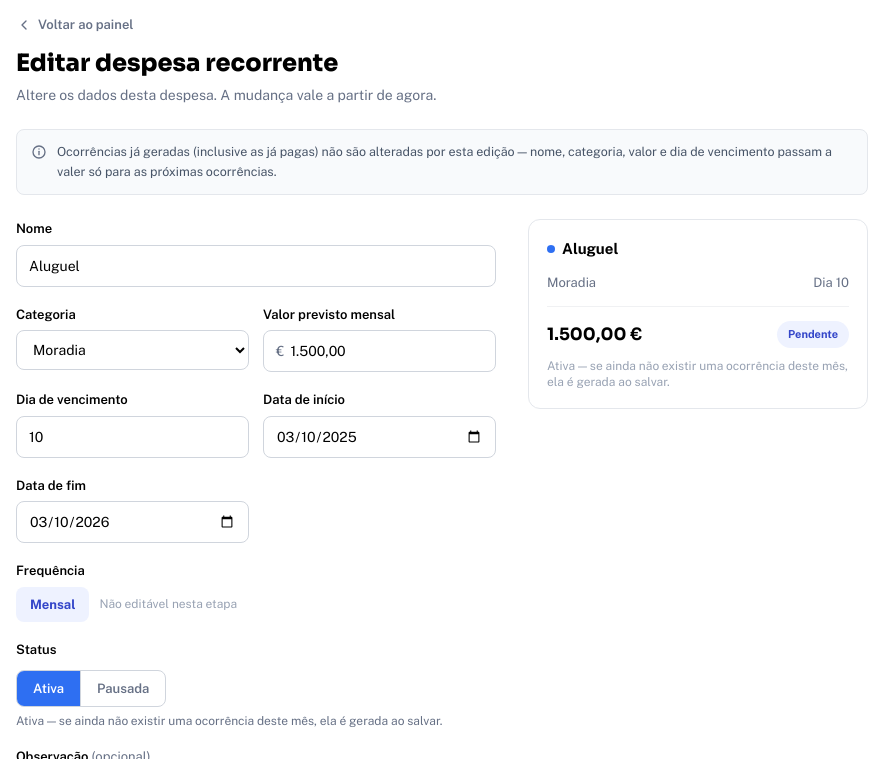
Test case: EditarDespesaRecorrenteComponent › editing and saving (FR-007-FR-012, FR-015, US1) › blocks submission and reveals every invalid field at once when the form is invalid
The image size is (885, 759).
Clear the field with test id "nome-input" at [256, 266], box x1=16 y1=245 x2=496 y2=287
(page scrolled)
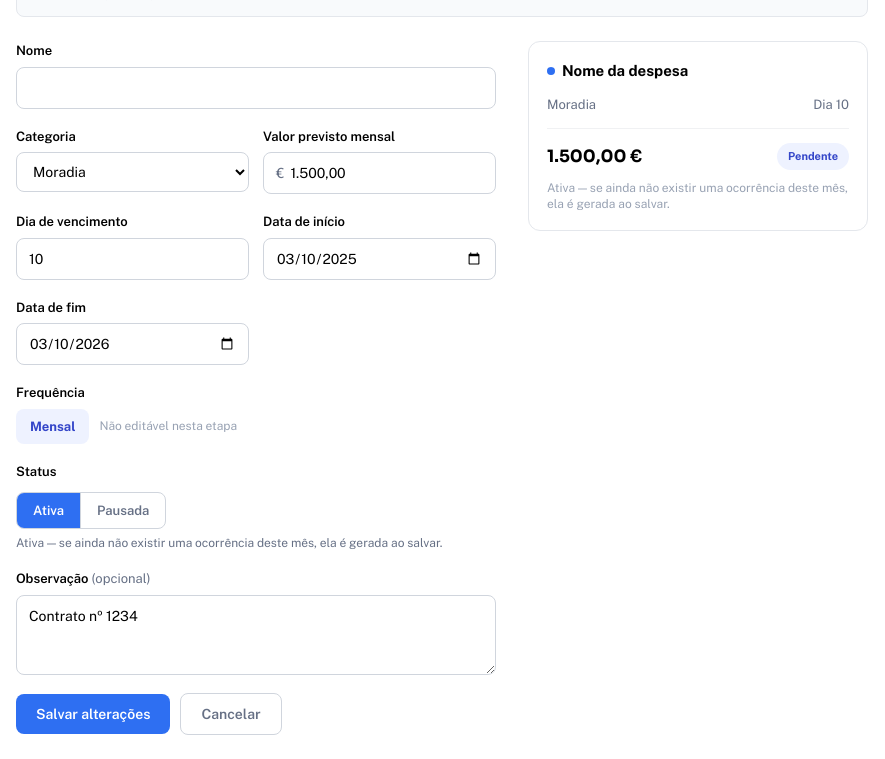
Click the button with test id "salvar-btn".
click(93, 714)  # box x1=16 y1=694 x2=170 y2=734
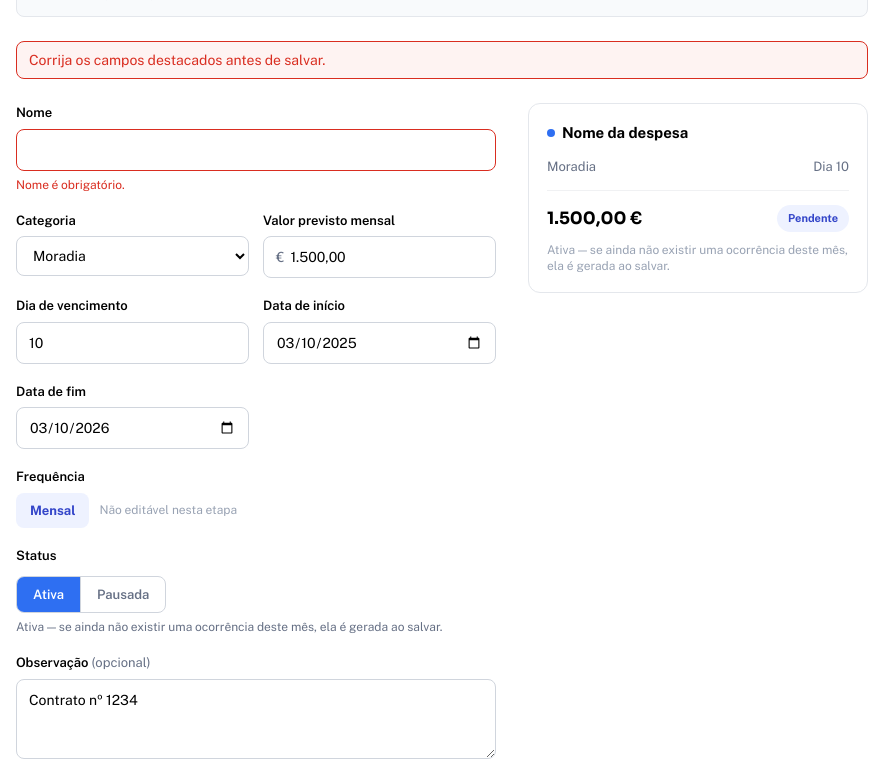
Result: the message "Nome é obrigatório." is shown at x1=16 y1=178 x2=125 y2=192
Result: the message "Corrija os campos destacados antes de salvar." is shown at x1=16 y1=41 x2=868 y2=79
